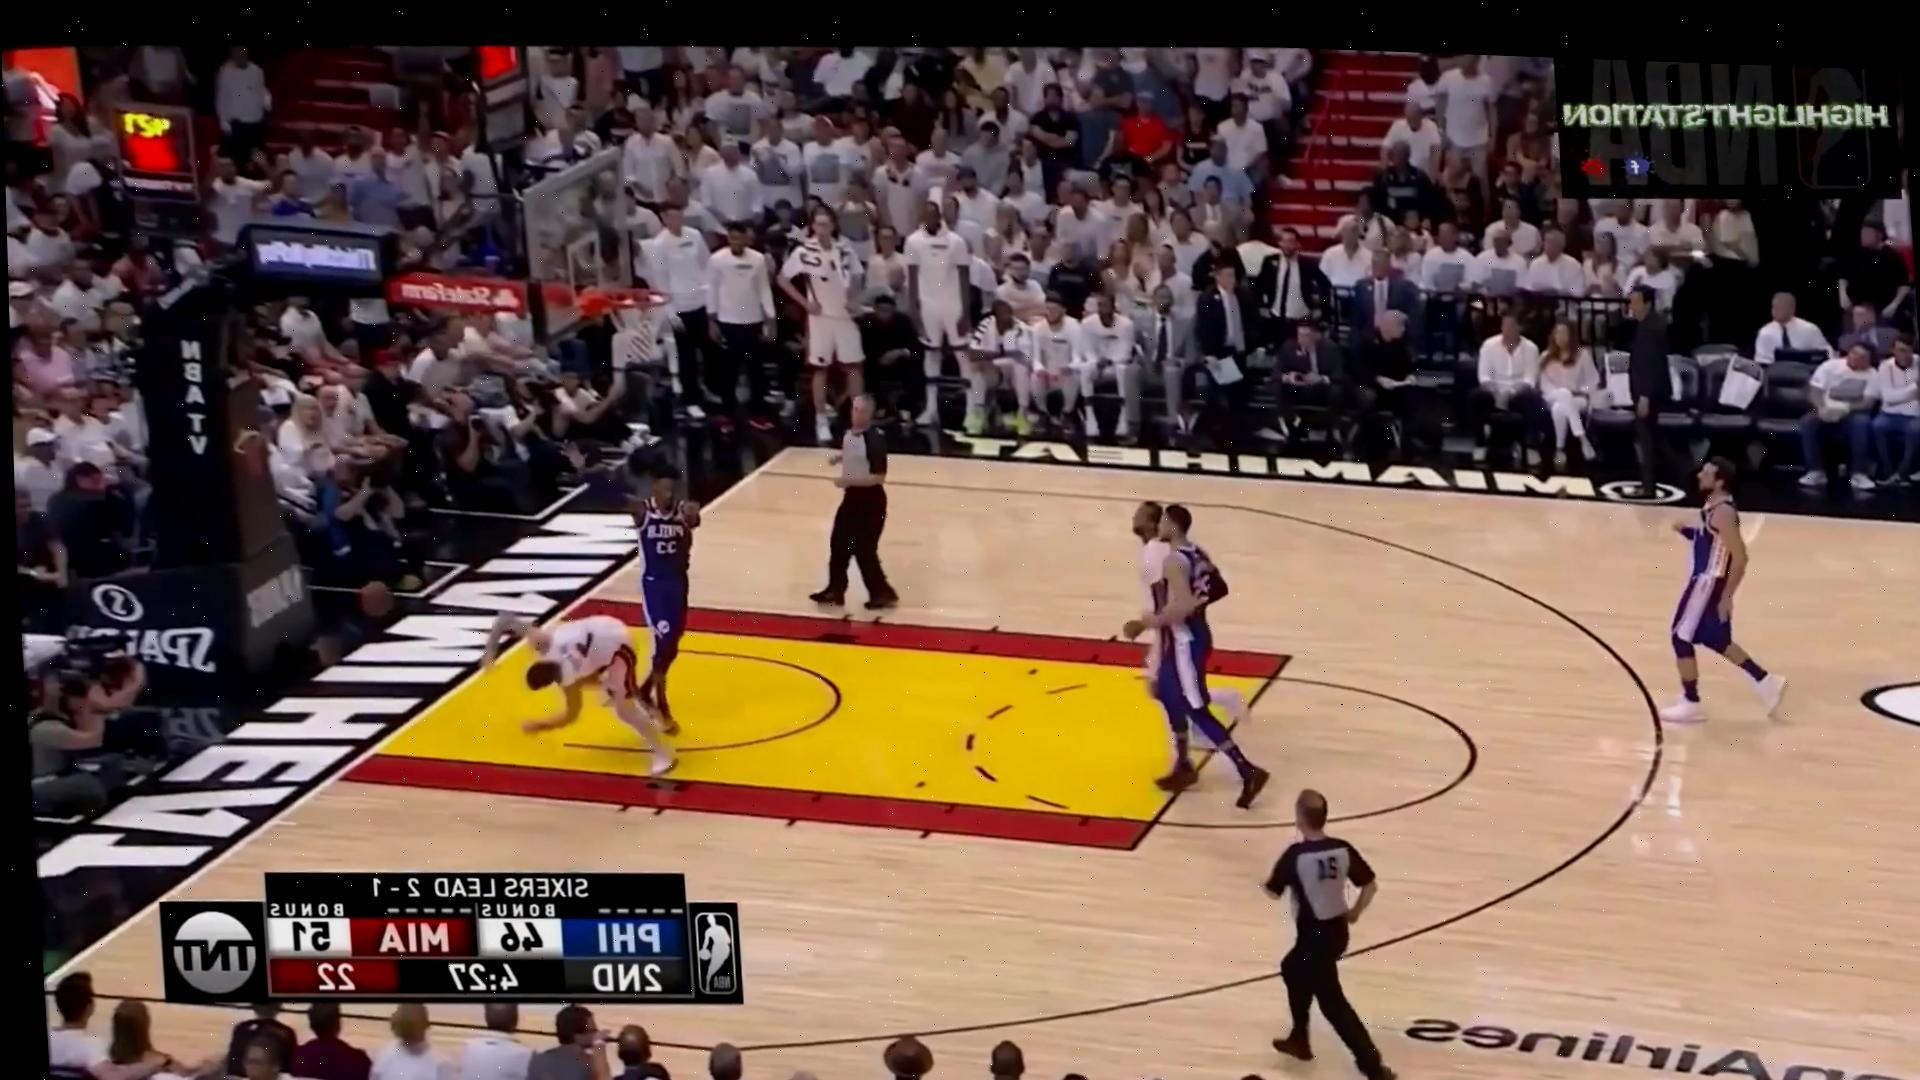no_foul: (1093, 477, 1263, 808)
